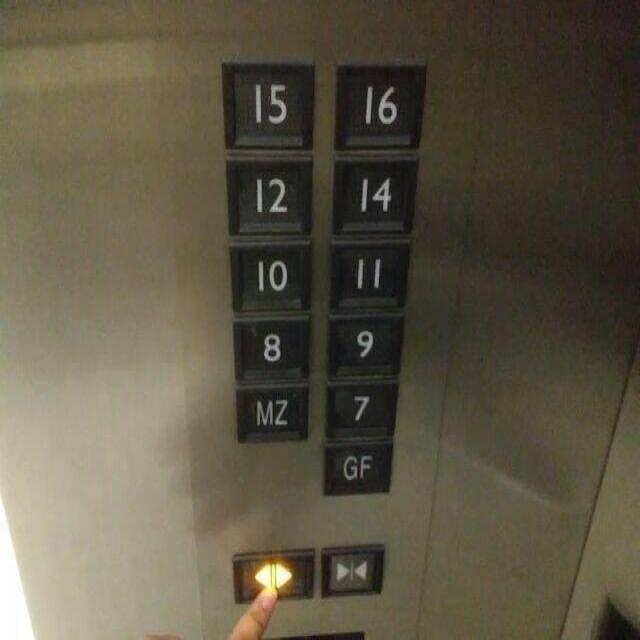10: (225, 231, 318, 316)
11: (325, 233, 413, 315)
12: (220, 150, 315, 238)
14: (325, 152, 421, 244)
15: (216, 55, 317, 153)
16: (328, 57, 424, 160)
7: (321, 376, 398, 440)
8: (228, 312, 310, 383)
9: (323, 308, 402, 379)
GF: (319, 438, 394, 498)
MZ: (232, 379, 311, 445)
close: (315, 540, 386, 597)
open: (227, 547, 315, 604)
